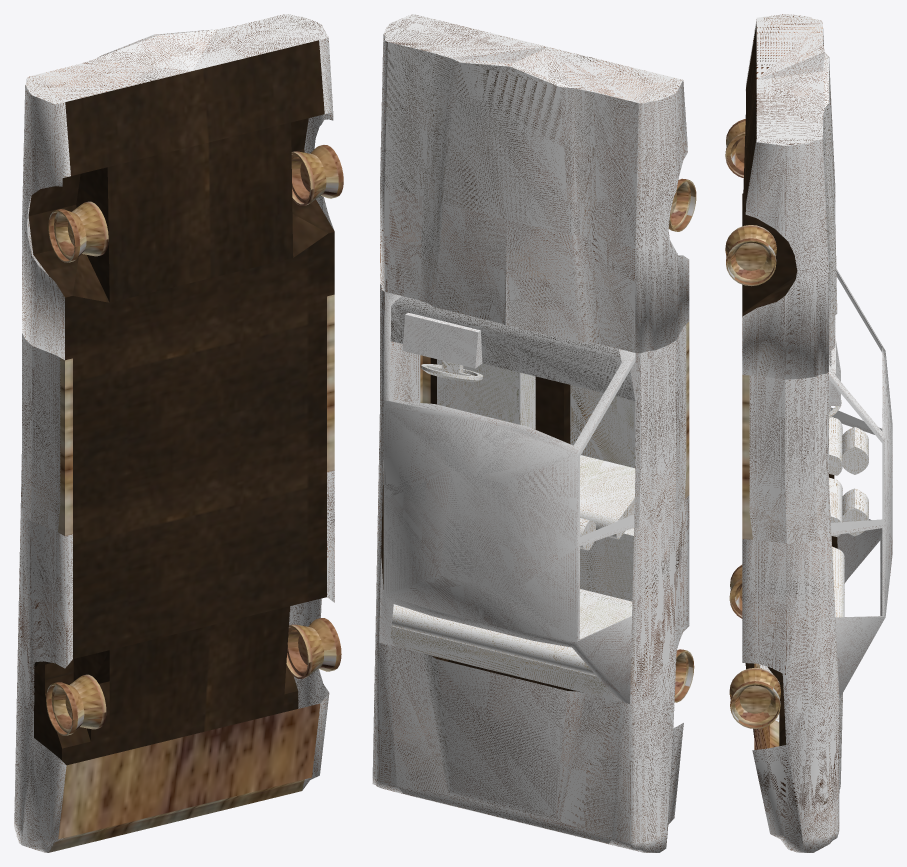
The model's file is RustyCar1.dae.
3 renders of one model, left to right at view 1: azimuth 30°, elevation 25°; view 2: azimuth 150°, elevation 25°; view 3: azimuth 270°, elevation 25°, orthographic. The views are drawn at different scales.
Parts seen in each view (by area): view 1: group_9, group_1, Component_3 (×2), group_0, Component_1 (×2), group_14 (×5), group_16, group_5, group_3; view 2: group_2, group_12, group_4, Component_3 (×2), group_10, Component_1 (×2), Group_50 (×2), group_16 (×2), group_7 (×2), group_0, group_9, group_17 (+2 smaller); view 3: Component_3, Component_1, group_16, group_0, group_12, group_14 (×8), group_9, Group_50 (×2), group_2, group_3, group_17 (×2), group_10 (+2 smaller).
Part boxes in pixels (x1,y1,x2,y2): group_9: (28,40,334,765); group_1: (48,703,320,852); Component_3 (×2): (14,470,334,852); group_0: (25,14,328,104); Component_1 (×2): (22,38,334,359); group_14 (×5): (46,145,343,735); group_16: (20,333,60,531); group_5: (58,358,72,535); group_3: (327,294,334,472); group_2: (384,42,638,352); group_12: (379,292,635,703); group_4: (388,645,620,845); Component_3 (×2): (372,459,689,852); group_10: (380,528,633,699); Component_1 (×2): (380,34,689,353); Group_50 (×2): (437,359,635,550); group_16 (×2): (379,284,686,527); group_7 (×2): (390,296,635,400); group_0: (383,14,682,103); group_9: (381,358,582,692); group_17: (578,358,635,543); Component_3: (742,536,839,852); Component_1: (742,138,828,379); group_16: (749,372,831,543); group_0: (756,14,824,145); group_12: (829,268,892,698); group_14 (×8): (725,119,780,728); group_9: (742,24,837,746); Group_50 (×2): (829,417,868,536); group_2: (823,28,837,354); group_3: (742,375,752,539); group_17 (×2): (829,273,883,532); group_10: (832,546,844,668).
Size of the model in its own units: 112 by 59.79 by 285.
Materials: 7 (6 with a texture image).
